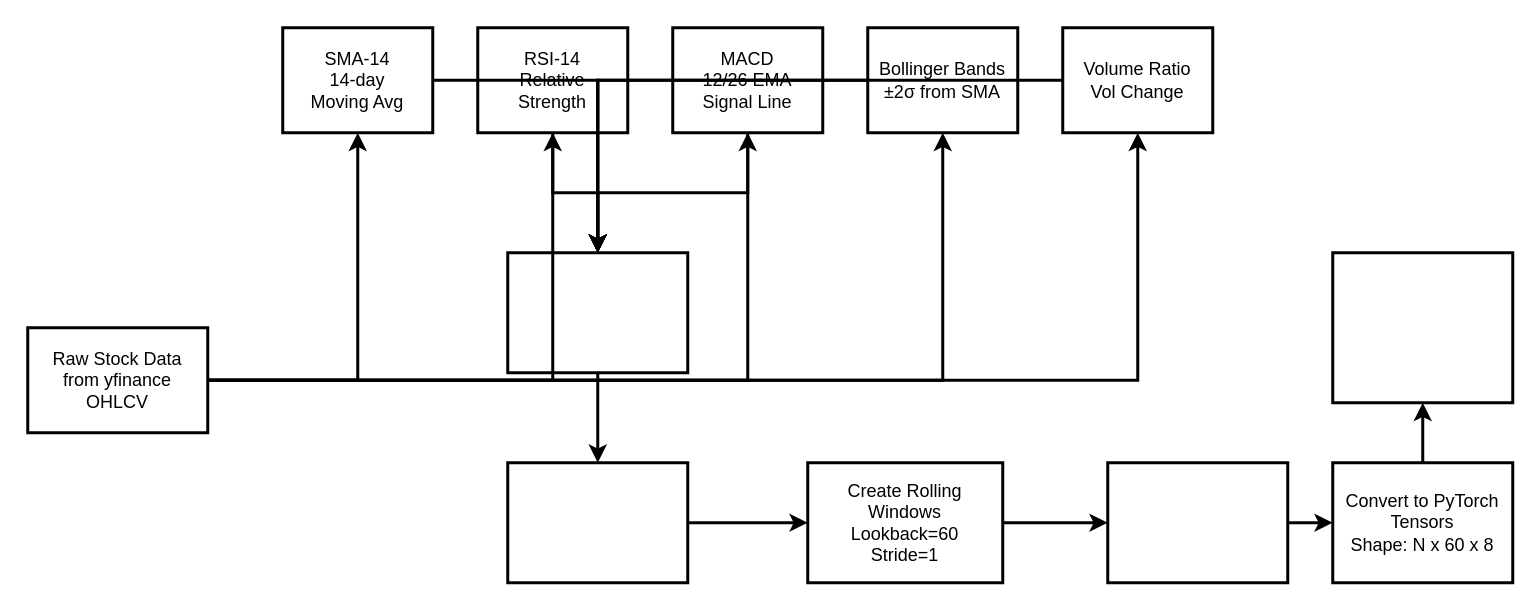
The diagram is 1539 pixels wide and 609 high, and some of its shapes have lost their labels. Each missing label, with the centre of its shape:
"BiLSTM Model Input: 8 Hidden: 500x4 Output: 1" goes at [1422,327].
"Normalize Min-Max Scaling 0-1 Range" goes at [597,522].
"Stack Features into Matrix 8 channels" goes at [597,312].
"Train/Val/Test Split 70/15/15" goes at [1197,522].
